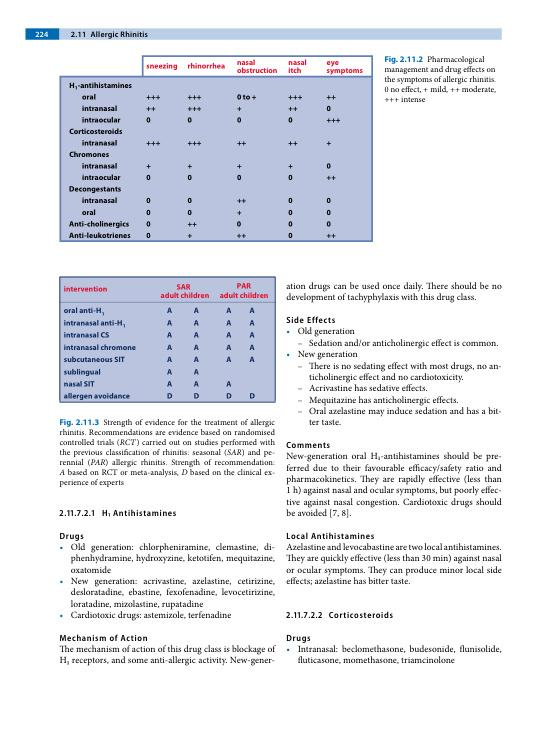caption: (59, 417, 276, 488), (383, 55, 497, 104)
header: (89, 30, 149, 40)
list: (285, 326, 502, 427), (59, 542, 276, 622), (285, 644, 503, 665)
sub-section-heading: (59, 633, 148, 642), (286, 531, 375, 540), (101, 508, 177, 518), (328, 610, 394, 619), (285, 316, 337, 324), (286, 441, 331, 449), (285, 633, 312, 644), (59, 532, 84, 541)
table: (58, 55, 373, 242), (58, 275, 276, 403)
text: (285, 451, 503, 519), (285, 542, 503, 586), (58, 643, 277, 666), (285, 281, 503, 304)
